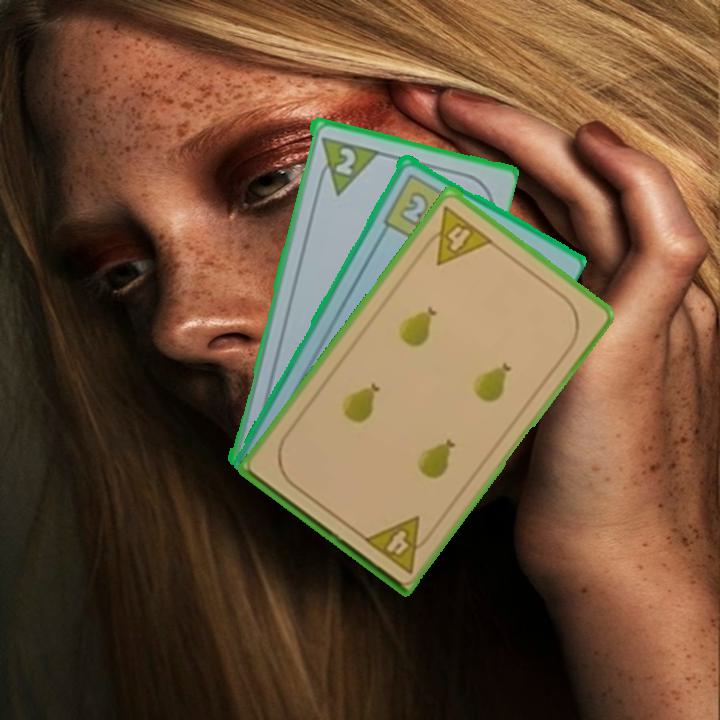2b: (379, 170, 457, 245)
2p: (312, 132, 379, 197)
4p: (417, 202, 496, 268), (359, 512, 438, 577)
